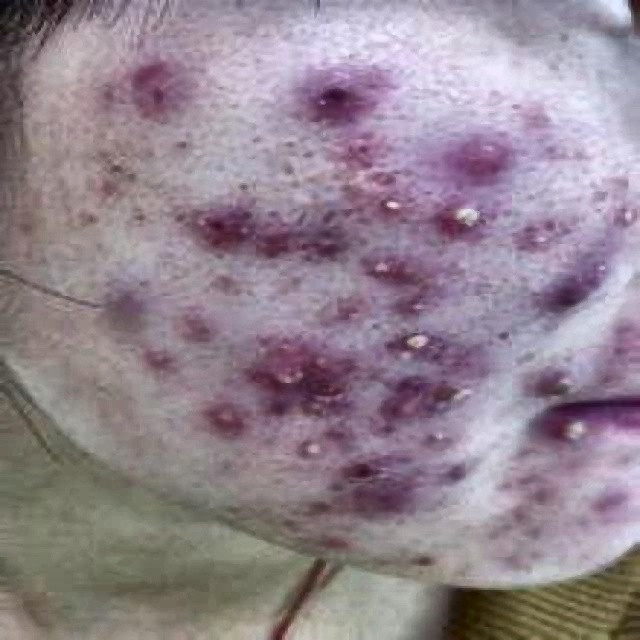papule: (340, 459, 425, 516), (125, 59, 195, 115), (428, 190, 492, 240), (192, 198, 256, 248), (352, 179, 413, 222), (439, 133, 506, 170), (250, 224, 303, 270), (384, 313, 439, 357), (306, 66, 366, 104), (483, 540, 544, 577), (561, 259, 608, 307), (288, 429, 343, 466), (128, 339, 180, 376), (232, 357, 296, 387), (311, 522, 361, 558), (305, 381, 355, 416), (506, 464, 559, 494), (355, 244, 401, 278), (335, 118, 375, 156), (588, 481, 634, 514), (300, 218, 343, 252), (108, 281, 146, 318), (169, 303, 215, 333), (396, 374, 434, 410), (512, 220, 553, 252), (544, 422, 593, 448), (538, 362, 570, 398), (413, 424, 457, 450), (390, 292, 433, 316), (294, 351, 332, 376), (212, 409, 248, 431), (442, 376, 468, 405)
